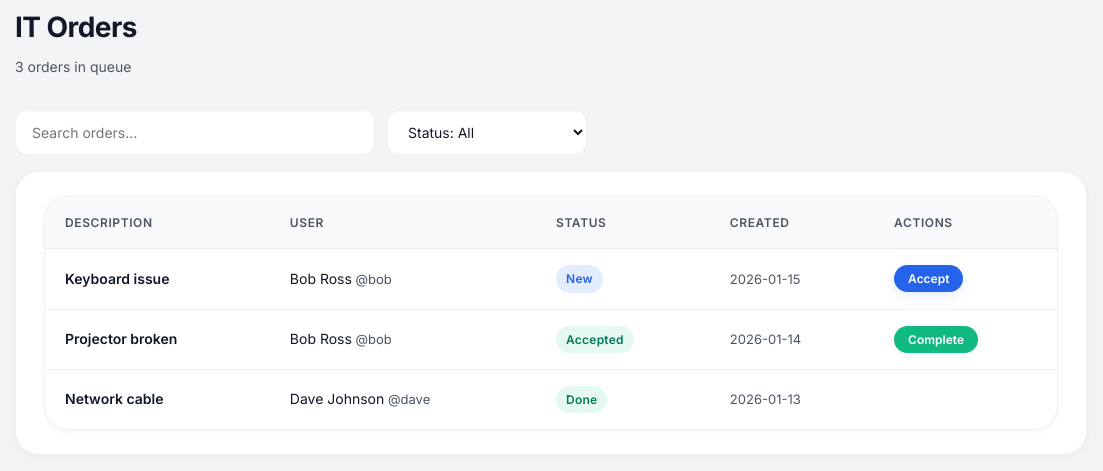
Test: status filter hides non-matching rows
Expected: the text "Keyboard issue" is shown, [45,249,270,309]
Select "New" in the dropdown at (487, 133), box [387,110,587,155]
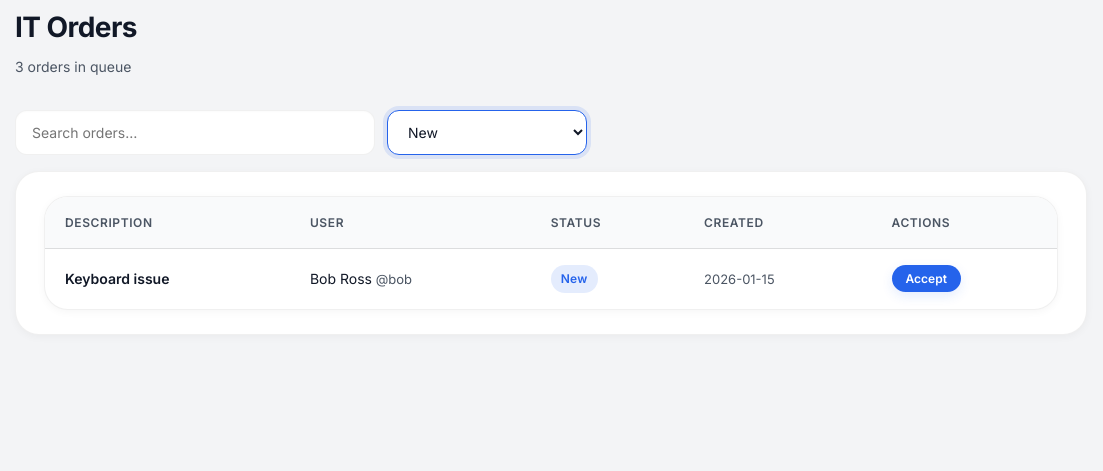
Expected: the text "Keyboard issue" is shown, [45,249,290,309]
Now the text "Projector broken" is gone
